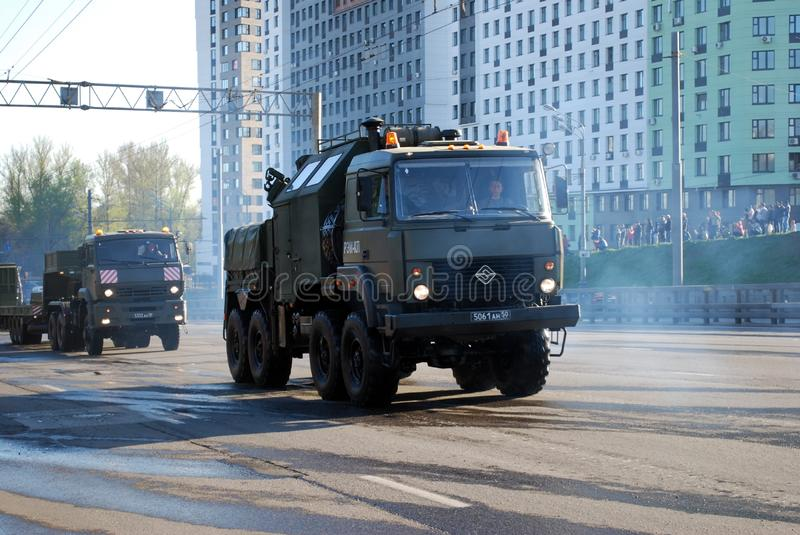camion: (223, 148, 563, 399)
